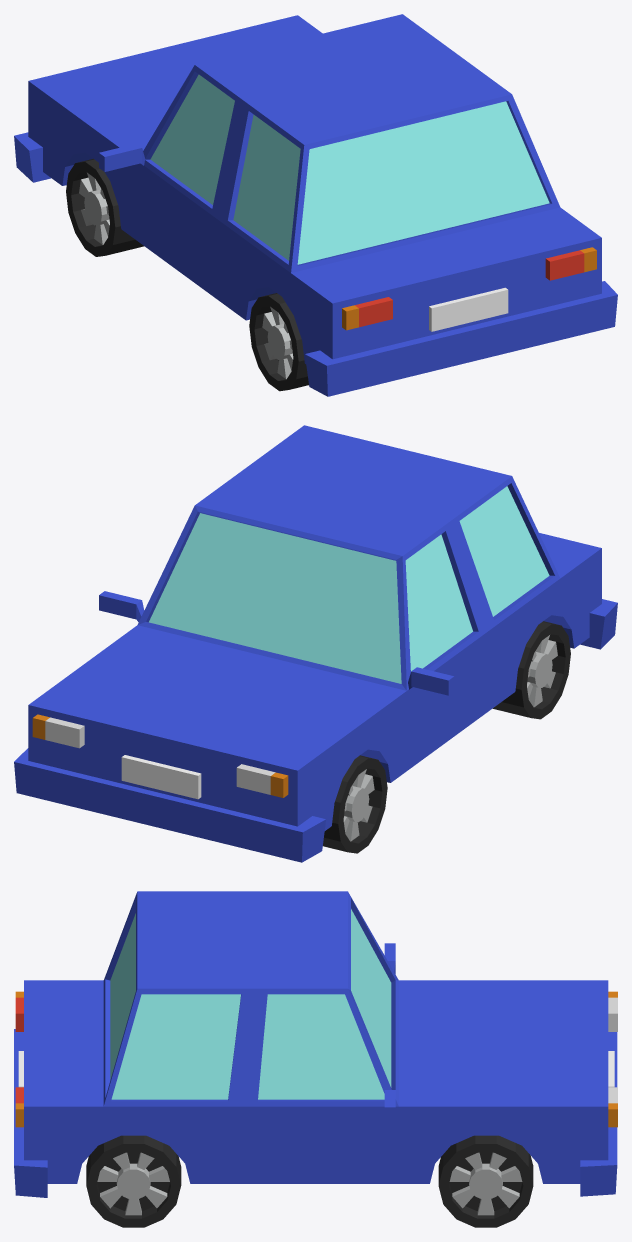
The model's file is Car_010.glb.
3 renders of one model, top to bottom at view 1: azimuth 30°, elevation 25°; view 2: azimuth 150°, elevation 25°; view 3: azimuth 270°, elevation 25°, orthographic. The views are drawn at different scales.
Visible parts, largest first — view 1: Car_Body, Wheel_FL, Wheel_BL; view 2: Car_Body, Wheel_BL, Wheel_FL; view 3: Car_Body, Wheel_BR, Wheel_FR.
Boxes of the visible parts, x1,y1,x2,y2 form: Car_Body: (14, 14, 617, 396); Wheel_FL: (66, 158, 143, 256); Wheel_BL: (249, 293, 308, 391); Car_Body: (14, 425, 617, 862); Wheel_BL: (493, 621, 570, 719); Wheel_FL: (323, 755, 387, 853); Car_Body: (14, 891, 617, 1197); Wheel_BR: (86, 1135, 181, 1227); Wheel_FR: (438, 1135, 533, 1227).
Size of the model in its own units: 2.39 by 1.52 by 3.72.
